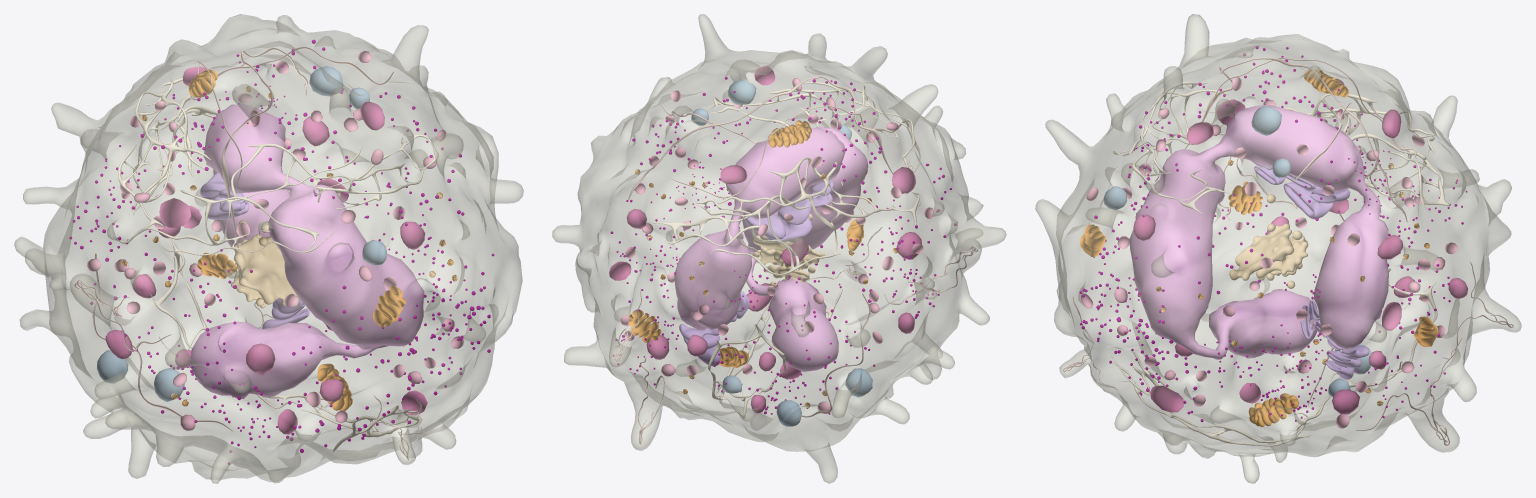
3 renders of one model, left to right at view 1: azimuth 30°, elevation 25°; view 2: azimuth 150°, elevation 25°; view 3: azimuth 270°, elevation 25°, orthographic. The views are drawn at different scales.
Visible parts, largest first — view 1: Neutrophil_Body, Neutrophil_Lobed_Nucleus, Neutrophil_Microfilaments_2, Neutrophil_Glycogen, Neutrophil_Golgi_Apparatus, Neutrophil_Microfilaments_1, Neutrophil_ER_2, Neutrophil_Microtubes_1, Mitochondria_Inner_Membrane_3, Neutrophil_Phagosome_4, Neutrophil_ER_1, Mitochondria_Inner_Membrane_4 (+10 smaller); view 2: Neutrophil_Body, Neutrophil_Lobed_Nucleus, Neutrophil_Microfilaments_2, Neutrophil_Glycogen, Neutrophil_ER_2, Neutrophil_Microfilaments_1, Neutrophil_Golgi_Apparatus, Neutrophil_ER_1, Neutrophil_Microtubes_1, Mitochondria_Inner_Membrane_1, Mitochondria_Inner_Membrane_5, Neutrophil_Phagosome_5 (+4 smaller); view 3: Neutrophil_Body, Neutrophil_Lobed_Nucleus, Neutrophil_Microfilaments_2, Neutrophil_Glycogen, Neutrophil_Golgi_Apparatus, Neutrophil_Microfilaments_1, Neutrophil_ER_2, Neutrophil_ER_1, Mitochondria_Inner_Membrane_2, Neutrophil_Microtubes_1, Neutrophil_Phagosome_4, Mitochondria_Inner_Membrane_4 (+5 smaller).
Boxes of the visible parts, left/top/right/bottom form: Neutrophil_Body: left=14, top=14, right=523, bottom=483; Neutrophil_Lobed_Nucleus: left=190, top=103, right=424, bottom=398; Neutrophil_Microfilaments_2: left=113, top=76, right=438, bottom=255; Neutrophil_Glycogen: left=69, top=39, right=494, bottom=464; Neutrophil_Golgi_Apparatus: left=231, top=233, right=298, bottom=308; Neutrophil_Microfilaments_1: left=150, top=238, right=422, bottom=451; Neutrophil_ER_2: left=200, top=172, right=249, bottom=219; Neutrophil_Microtubes_1: left=221, top=47, right=307, bottom=248; Mitochondria_Inner_Membrane_3: left=373, top=285, right=405, bottom=327; Neutrophil_Phagosome_4: left=309, top=66, right=343, bottom=96; Neutrophil_ER_1: left=262, top=297, right=309, bottom=328; Mitochondria_Inner_Membrane_4: left=197, top=252, right=237, bottom=279; Neutrophil_Body: left=552, top=14, right=1006, bottom=483; Neutrophil_Lobed_Nucleus: left=674, top=126, right=868, bottom=371; Neutrophil_Microfilaments_2: left=649, top=82, right=920, bottom=275; Neutrophil_Glycogen: left=610, top=77, right=956, bottom=414; Neutrophil_ER_2: left=746, top=179, right=833, bottom=242; Neutrophil_Microfilaments_1: left=708, top=264, right=842, bottom=418; Neutrophil_Golgi_Apparatus: left=752, top=235, right=825, bottom=282; Neutrophil_ER_1: left=679, top=290, right=749, bottom=366; Neutrophil_Microtubes_1: left=628, top=76, right=893, bottom=199; Mitochondria_Inner_Membrane_1: left=768, top=120, right=811, bottom=147; Mitochondria_Inner_Membrane_5: left=628, top=309, right=661, bottom=342; Neutrophil_Phagosome_5: left=845, top=368, right=872, bottom=397; Neutrophil_Body: left=1035, top=14, right=1521, bottom=483; Neutrophil_Lobed_Nucleus: left=1129, top=105, right=1388, bottom=359; Neutrophil_Microfilaments_2: left=1113, top=81, right=1450, bottom=213; Neutrophil_Glycogen: left=1079, top=46, right=1467, bottom=421; Neutrophil_Golgi_Apparatus: left=1229, top=223, right=1308, bottom=280; Neutrophil_Microfilaments_1: left=1111, top=268, right=1437, bottom=446; Neutrophil_ER_2: left=1251, top=161, right=1350, bottom=219; Neutrophil_ER_1: left=1300, top=299, right=1369, bottom=379; Mitochondria_Inner_Membrane_2: left=1248, top=393, right=1298, bottom=426; Neutrophil_Microtubes_1: left=1184, top=58, right=1407, bottom=221; Neutrophil_Phagosome_4: left=1251, top=106, right=1281, bottom=135; Mitochondria_Inner_Membrane_4: left=1228, top=185, right=1263, bottom=214.
Size of what is drawn, in the model's own units: 0.4655 by 0.4651 by 0.5.
12 materials, 1 textured.
